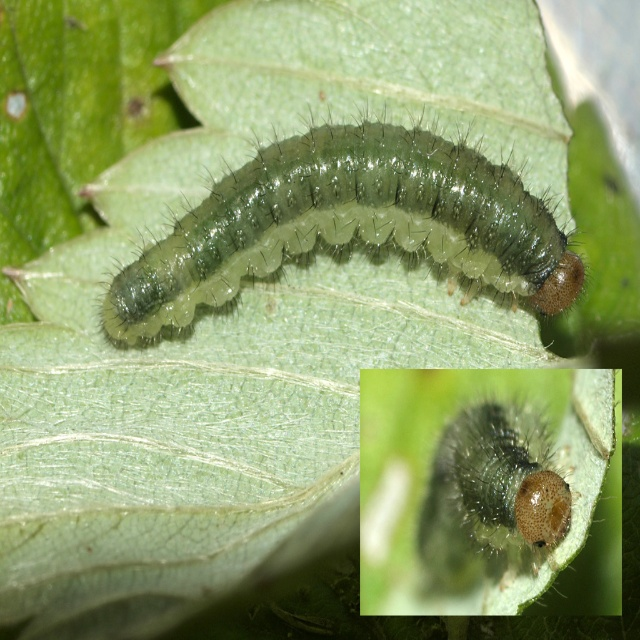Caterpillar: (88, 90, 594, 356), (427, 385, 595, 581)
